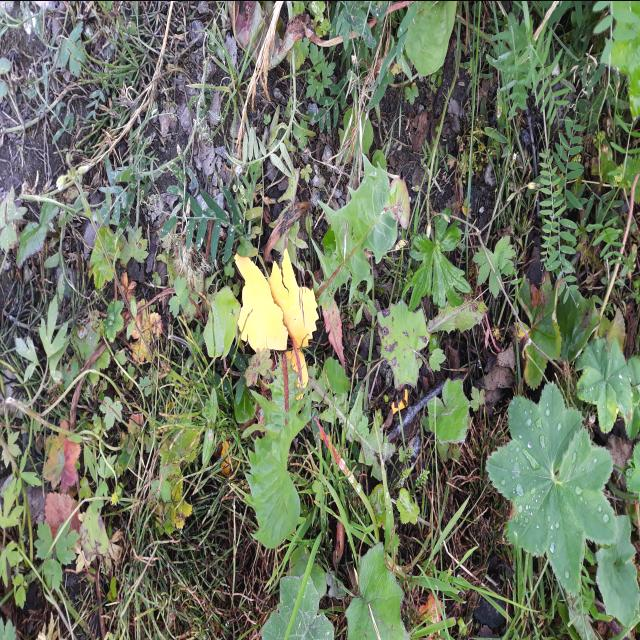Other plastic bottle: (269, 247, 319, 399), (234, 251, 288, 351)
